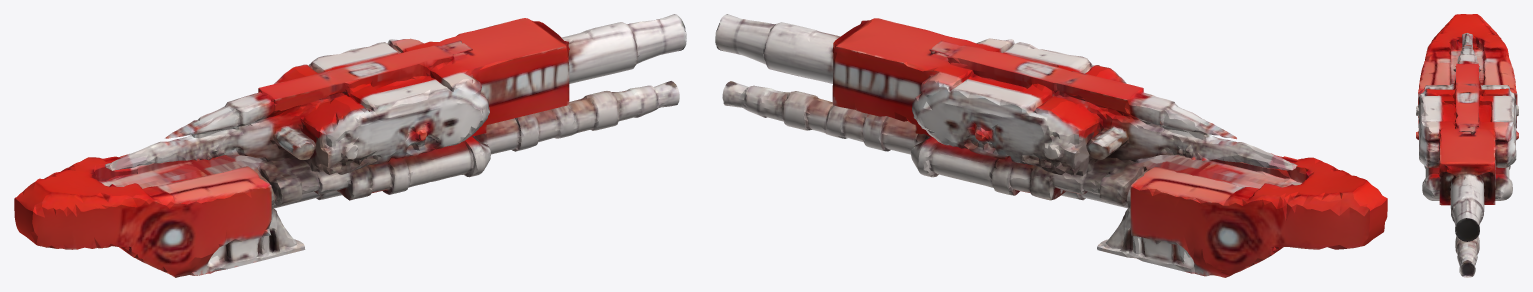
Rendered from viper_weapon_primary.glb.
3 renders of one model, left to right at view 1: azimuth 30°, elevation 25°; view 2: azimuth 150°, elevation 25°; view 3: azimuth 270°, elevation 25°, orthographic. The views are drawn at different scales.
Visible parts, largest first — view 1: viper_weapon_primary; view 2: viper_weapon_primary; view 3: viper_weapon_primary.
Boxes of the visible parts, <box> form: viper_weapon_primary: <box>14,14,686,277</box>; viper_weapon_primary: <box>715,14,1387,277</box>; viper_weapon_primary: <box>1416,14,1518,277</box>.
Size of the model in its own units: 1.89 by 0.3795 by 0.3708.
Materials: 1 (1 with a texture image).
